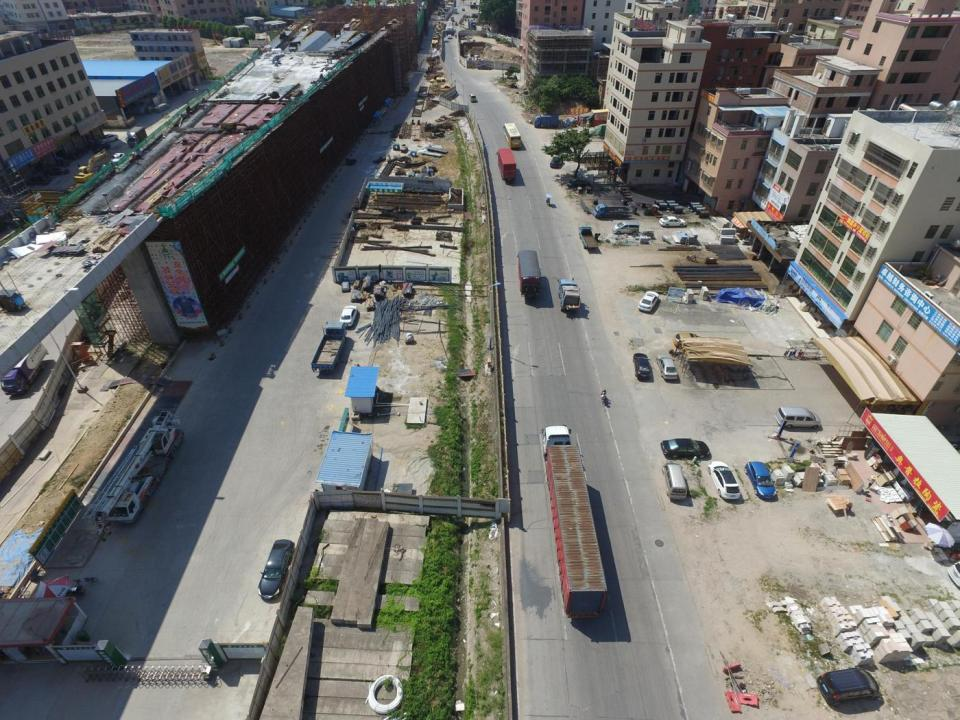bus: (503, 123, 522, 151)
car: (817, 667, 878, 707), (256, 539, 295, 601), (708, 460, 741, 501), (745, 462, 776, 499), (661, 438, 710, 458), (655, 354, 678, 381), (632, 352, 652, 380), (638, 291, 659, 313), (673, 332, 703, 346), (340, 307, 358, 327), (658, 216, 686, 227), (568, 178, 590, 189), (50, 165, 71, 174), (551, 155, 563, 169), (94, 142, 110, 152), (110, 153, 124, 164), (100, 134, 119, 142), (477, 64, 492, 70), (447, 34, 453, 40), (444, 38, 449, 42), (461, 8, 465, 12)
truck: (95, 410, 184, 540)
van: (540, 424, 606, 620), (1, 341, 48, 395), (313, 320, 348, 373), (516, 249, 542, 296), (774, 407, 822, 429), (662, 464, 687, 499), (557, 278, 580, 313), (496, 148, 517, 180), (593, 204, 630, 220), (578, 226, 596, 252), (125, 126, 147, 146), (533, 114, 559, 129), (612, 221, 640, 234), (155, 103, 169, 112), (467, 21, 476, 31), (469, 93, 477, 102), (446, 25, 453, 34), (450, 16, 454, 22), (454, 8, 458, 13)
